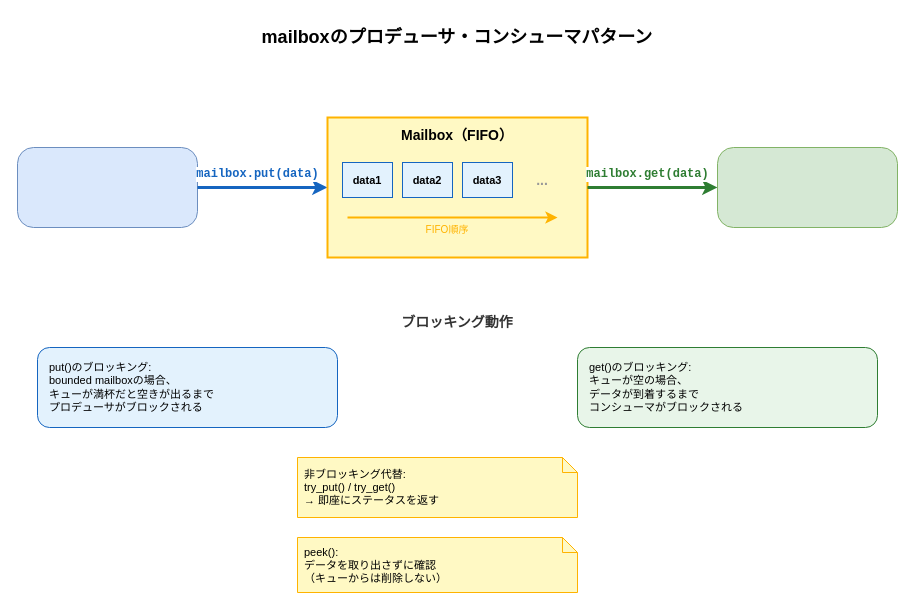
Image size: 915x610. Some labels were removed from this diagram. Each missing label, with the centre of its shape:
"Consumer （コンシューマ）" belongs at pixel 807 187.
"Producer （プロデューサ）" belongs at pixel 107 187.
